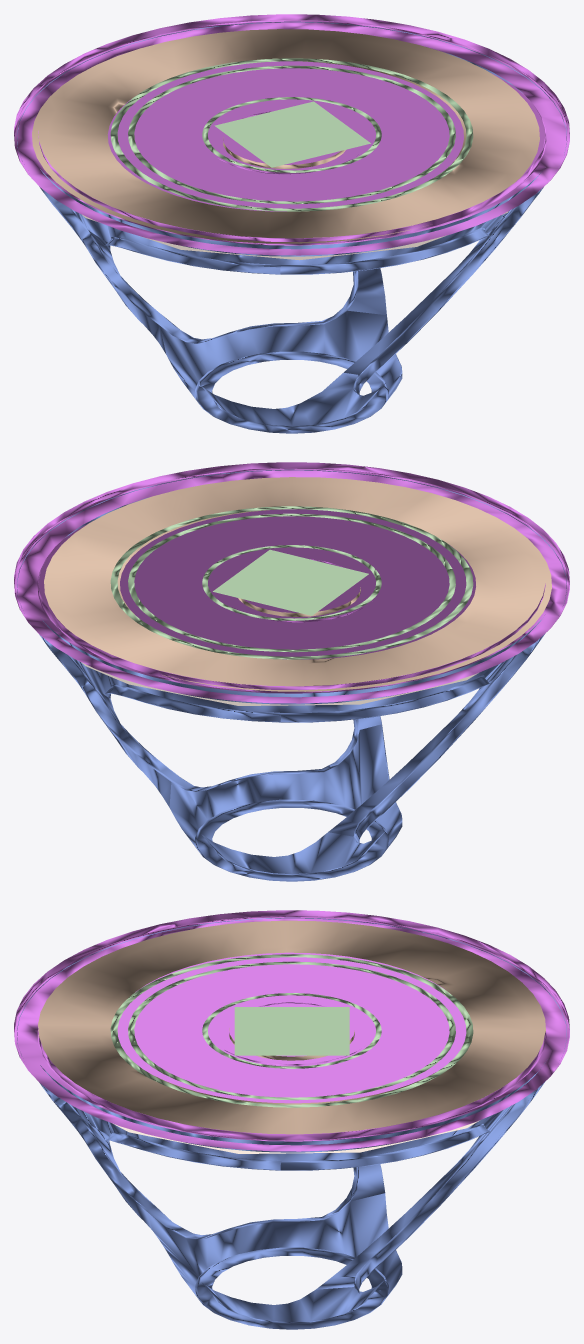
Rendered from table_glass_1_a.glb.
The picture shows the model from 3 angles, top to bottom: view 1: azimuth 30°, elevation 25°; view 2: azimuth 150°, elevation 25°; view 3: azimuth 270°, elevation 25°; orthographic projection.
Bounding box in the file's own units: 1.54 × 0.8055 × 1.54.
